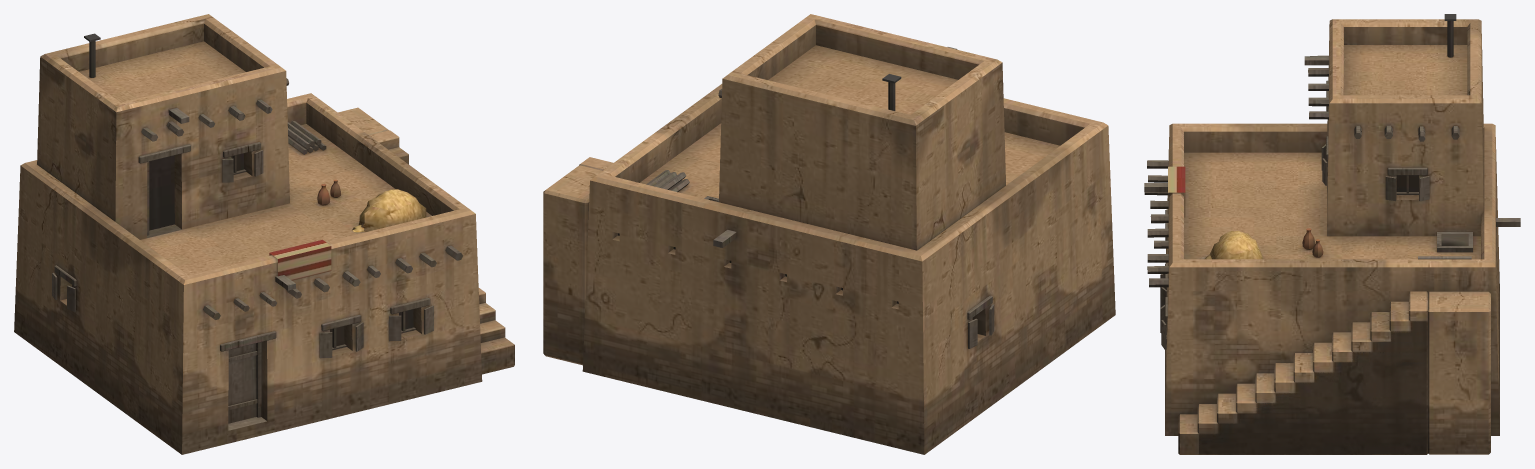
3 views of the same model, side by side, from view 1: azimuth 30°, elevation 25°; view 2: azimuth 150°, elevation 25°; view 3: azimuth 270°, elevation 25° (orthographic). The views are drawn at different scales.
Parts seen in each view (by area): view 1: vh_h50a; view 2: vh_h50a; view 3: vh_h50a.
Boxes of the visible parts, x1,y1,x2,y2 form: vh_h50a: (14,14,514,454); vh_h50a: (543,14,1115,454); vh_h50a: (1144,14,1520,454).
Size of the model in its own units: 8.49 by 7.09 by 8.08.
1 material, 1 textured.
